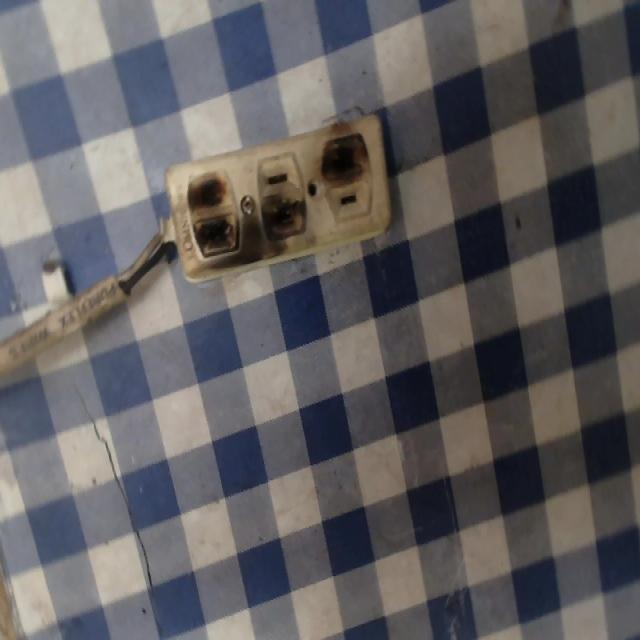-: (180, 169, 247, 263), (257, 197, 309, 251), (316, 132, 368, 184)
